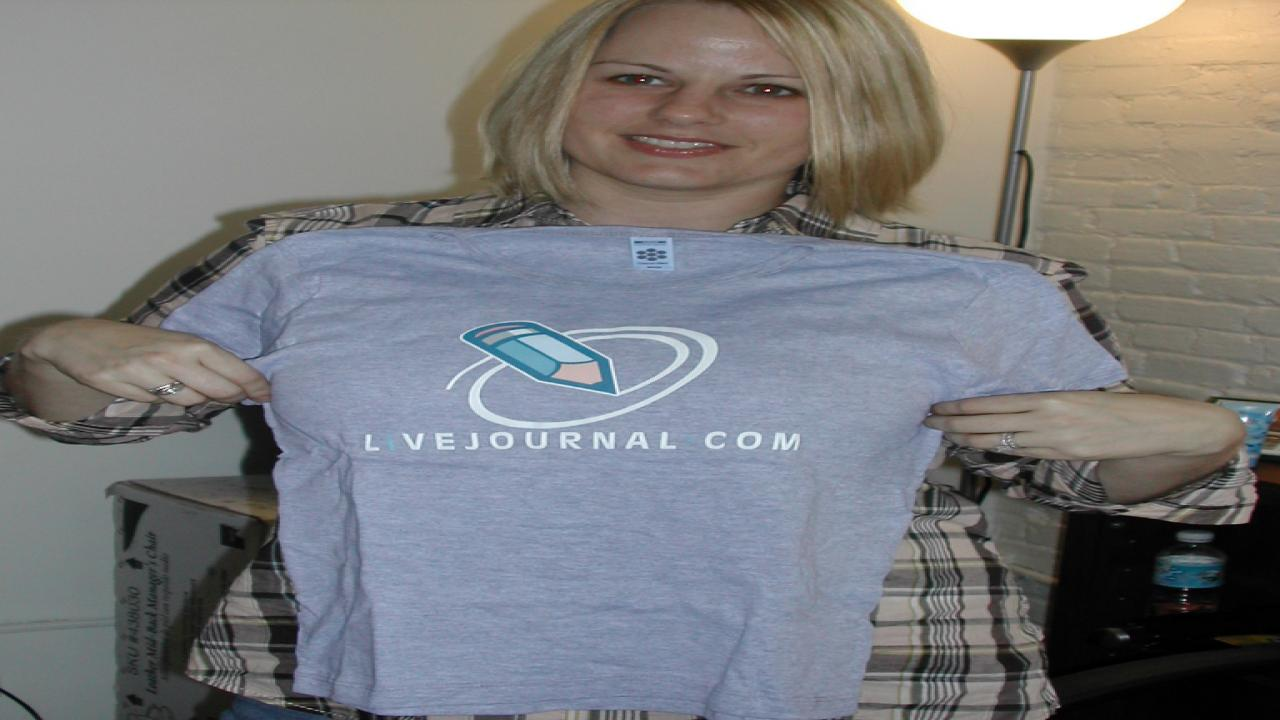bottle_cap: (1178, 531, 1216, 542)
ring: (150, 382, 188, 395), (998, 431, 1023, 449)
